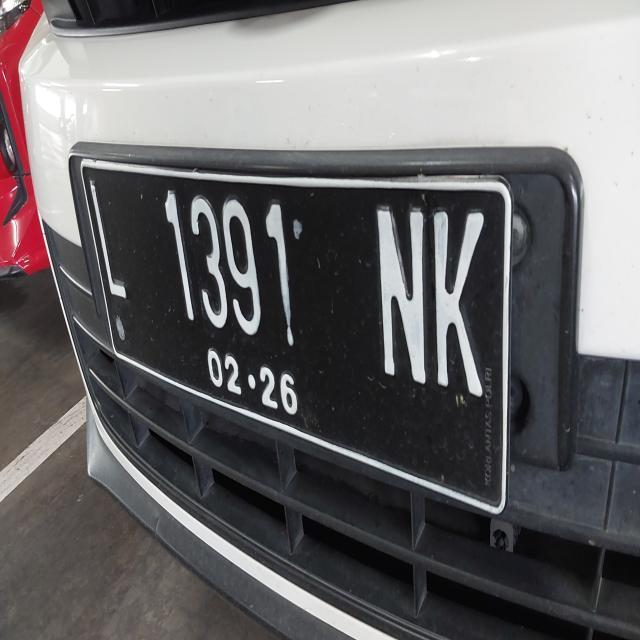1: (265, 193, 308, 355), (158, 182, 198, 342)
3: (190, 180, 225, 331)
9: (222, 182, 264, 346)
K: (432, 194, 489, 406)
L: (83, 170, 136, 311)
N: (364, 192, 430, 392)
